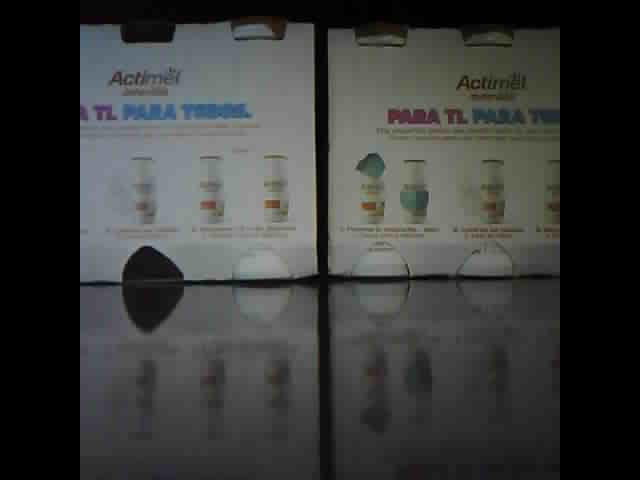actimel: (80, 21, 320, 282), (325, 24, 561, 281)
